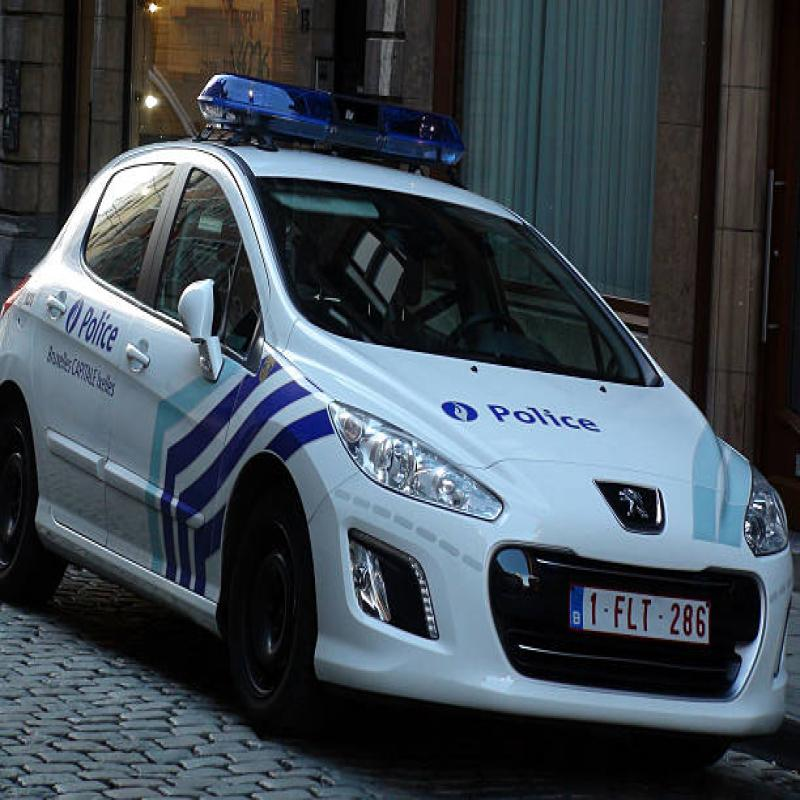AmbulanceSiren: (196, 65, 470, 192)
